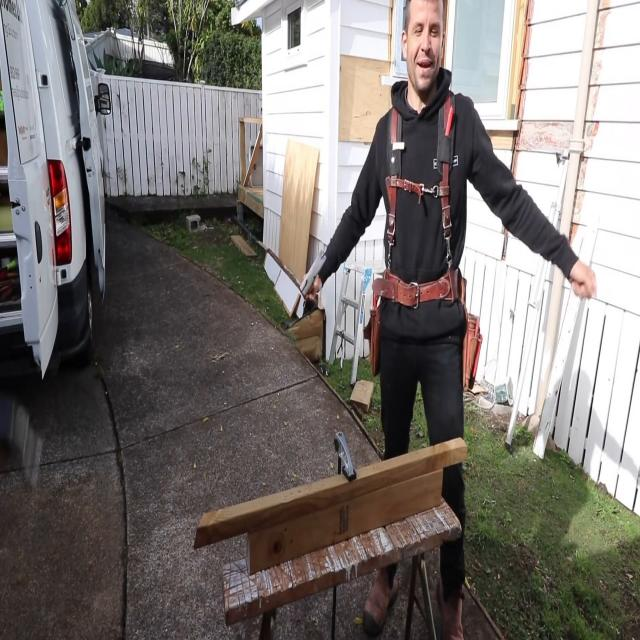hammer: (298, 249, 326, 299)
